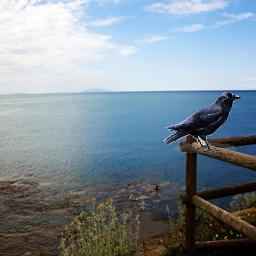Crow: (163, 92, 241, 153)
